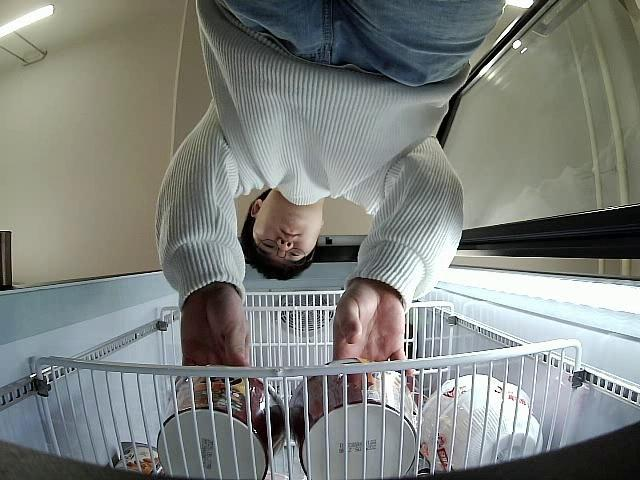05_nuguri_L: (290, 358, 419, 480), (158, 364, 285, 480)
